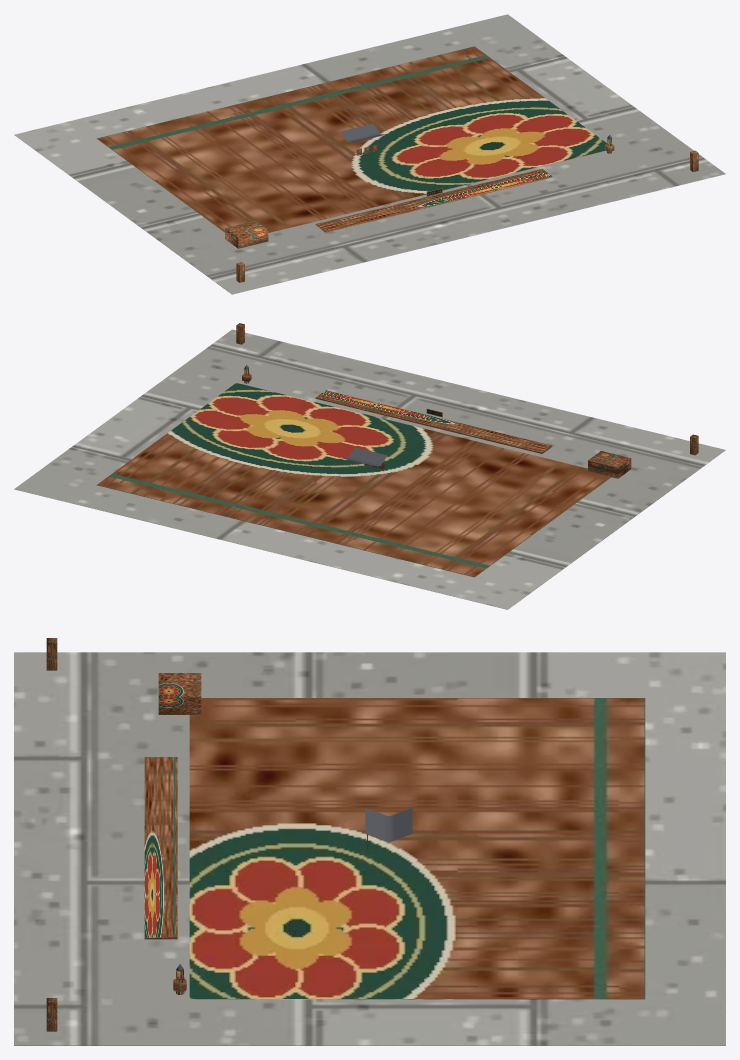
The picture shows the model from 3 angles, top to bottom: view 1: azimuth 30°, elevation 25°; view 2: azimuth 150°, elevation 25°; view 3: azimuth 270°, elevation 25°; orthographic projection. The views are drawn at different scales.
Parts seen in each view (by area): view 1: 11710_01_05549_003_02_L2__body, 11710_01_05549_003_01_L2__base, 11710_01_05549_003_03_L2__roof; view 2: 11710_01_05549_003_02_L2__body, 11710_01_05549_003_01_L2__base, 11710_01_05549_003_03_L2__roof; view 3: 11710_01_05549_003_02_L2__body, 11710_01_05549_003_01_L2__base, 11710_01_05549_003_03_L2__roof, 11710_01_05549_003_06_L2__green.
Part boxes in pixels (x1=…): 11710_01_05549_003_02_L2__body: x1=96, y1=46, x2=614, y2=248; 11710_01_05549_003_01_L2__base: x1=14, y1=14, x2=725, y2=294; 11710_01_05549_003_03_L2__roof: x1=341, y1=123, x2=611, y2=142; 11710_01_05549_003_02_L2__body: x1=97, y1=368, x2=631, y2=577; 11710_01_05549_003_01_L2__base: x1=14, y1=329, x2=725, y2=609; 11710_01_05549_003_03_L2__roof: x1=244, y1=365, x2=387, y2=465; 11710_01_05549_003_02_L2__body: x1=144, y1=673, x2=645, y2=999; 11710_01_05549_003_01_L2__base: x1=14, y1=652, x2=725, y2=1045; 11710_01_05549_003_03_L2__roof: x1=176, y1=808, x2=412, y2=971; 11710_01_05549_003_06_L2__green: x1=46, y1=638, x2=57, y2=1031.
Size of the model in its own units: 196 by 7 by 150.
Materials: 5 (5 with a texture image).
